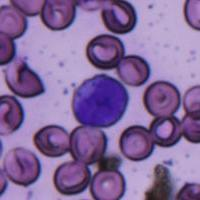M: (71, 74, 130, 128)
